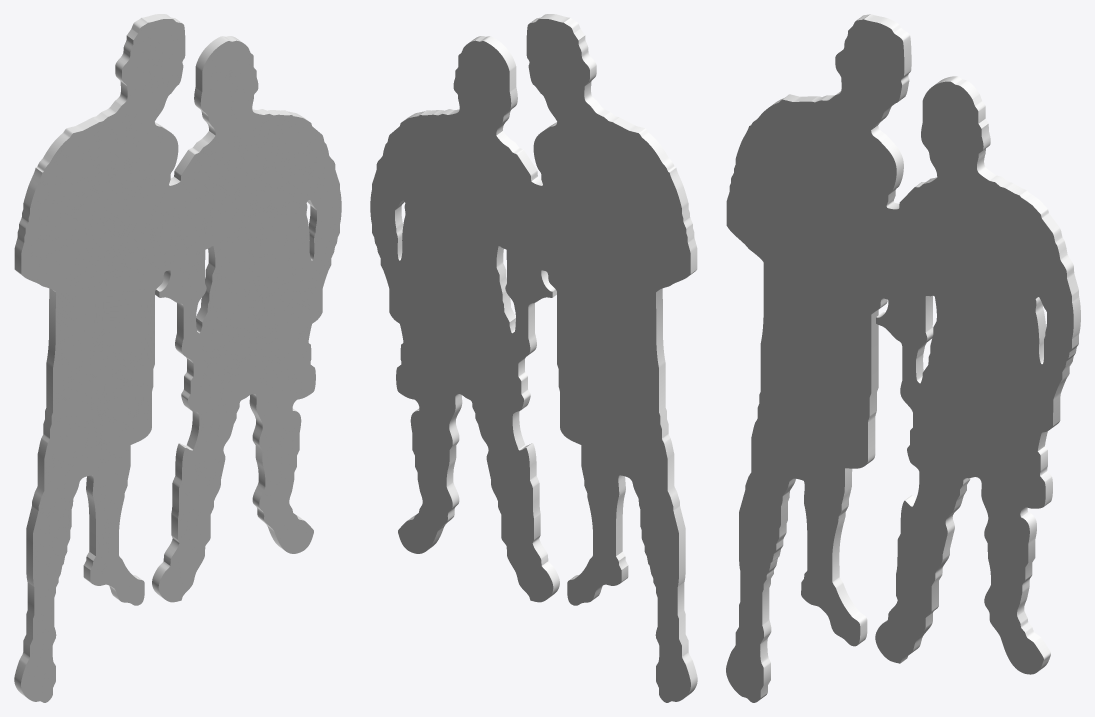
The model's file is fish-2.gltf.
The picture shows the model from 3 angles, left to right: view 1: azimuth 30°, elevation 25°; view 2: azimuth 150°, elevation 25°; view 3: azimuth 330°, elevation 25°; orthographic projection. The views are drawn at different scales.
Parts seen in each view (by area): view 1: Layer 1; view 2: Layer 1; view 3: Layer 1.
Part boxes in pixels (x1,y1,x2,y2): Layer 1: [14, 14, 341, 702]; Layer 1: [370, 14, 697, 702]; Layer 1: [726, 14, 1080, 702].
Size of the model in its own units: 14.69 by 28.68 by 0.53.
Materials: 3 (1 with a texture image).
